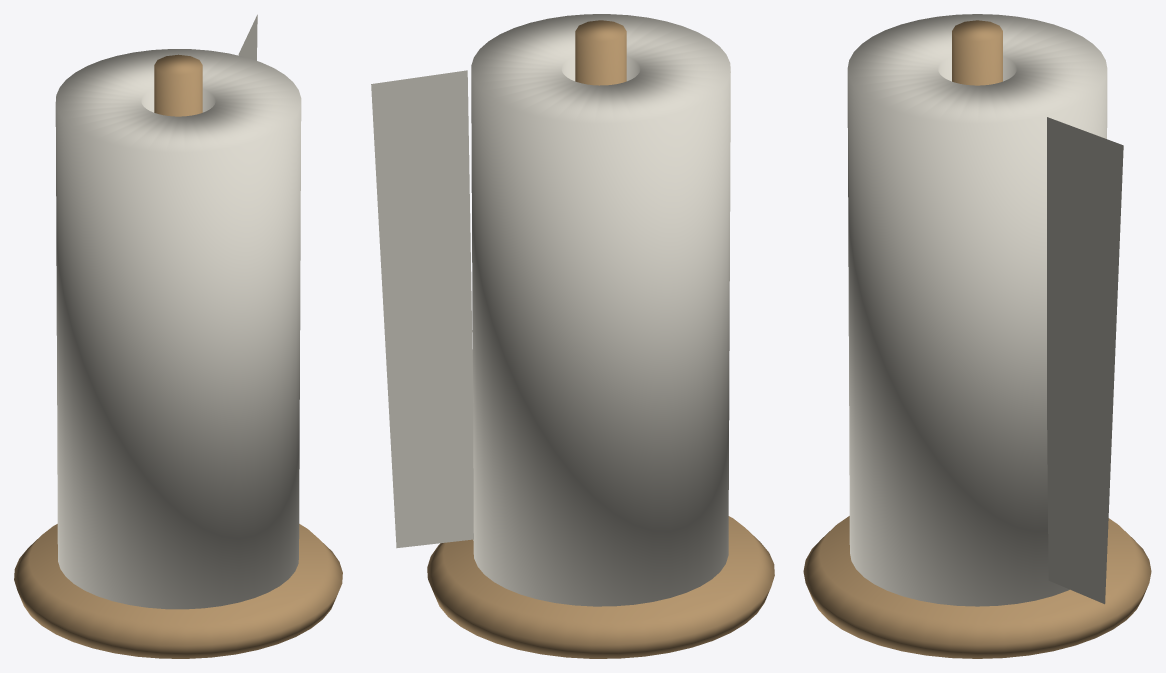
File: paper_towel.glb
3 renders of one model, left to right at view 1: azimuth 30°, elevation 25°; view 2: azimuth 150°, elevation 25°; view 3: azimuth 270°, elevation 25°, orthographic. The views are drawn at different scales.
Visible parts, largest first — view 1: paper_towel__paper, paper_towel__body; view 2: paper_towel__paper, paper_towel__body; view 3: paper_towel__paper, paper_towel__body.
Part boxes in pixels (<box>): paper_towel__paper: <box>55,14,301,609</box>; paper_towel__body: <box>14,54,342,658</box>; paper_towel__paper: <box>371,14,730,606</box>; paper_towel__body: <box>427,20,774,658</box>; paper_towel__paper: <box>847,14,1123,606</box>; paper_towel__body: <box>803,20,1151,658</box>.
Bounding box in the file's own units: 0.153 × 0.265 × 0.15.
